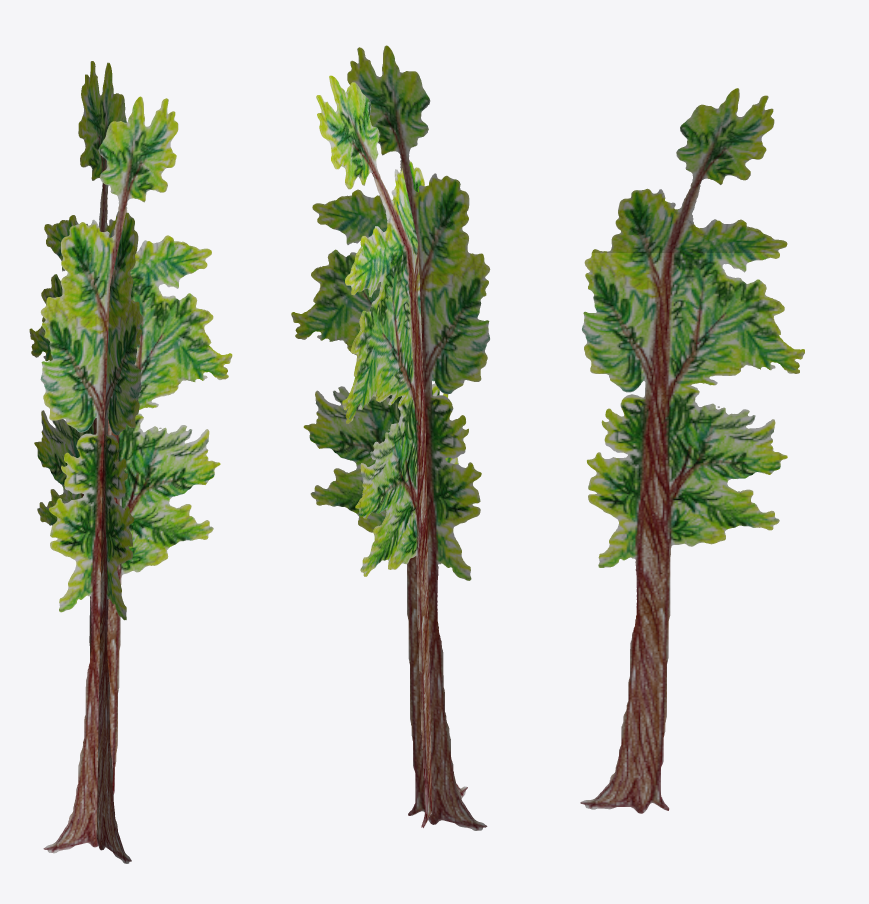
The model's file is Tree3.fbx.
3 renders of one model, left to right at view 1: azimuth 30°, elevation 25°; view 2: azimuth 150°, elevation 25°; view 3: azimuth 270°, elevation 25°, orthographic. The views are drawn at different scales.
Visible parts, largest first — view 1: Tree3; view 2: Tree3; view 3: Tree3.
Boxes of the visible parts, left/top/right/bottom form: Tree3: left=29, top=61, right=232, bottom=863; Tree3: left=291, top=45, right=490, bottom=830; Tree3: left=580, top=88, right=804, bottom=813.
Bounding box in the file's own units: 699 × 2235 × 818.
Materials: 1 (1 with a texture image).
